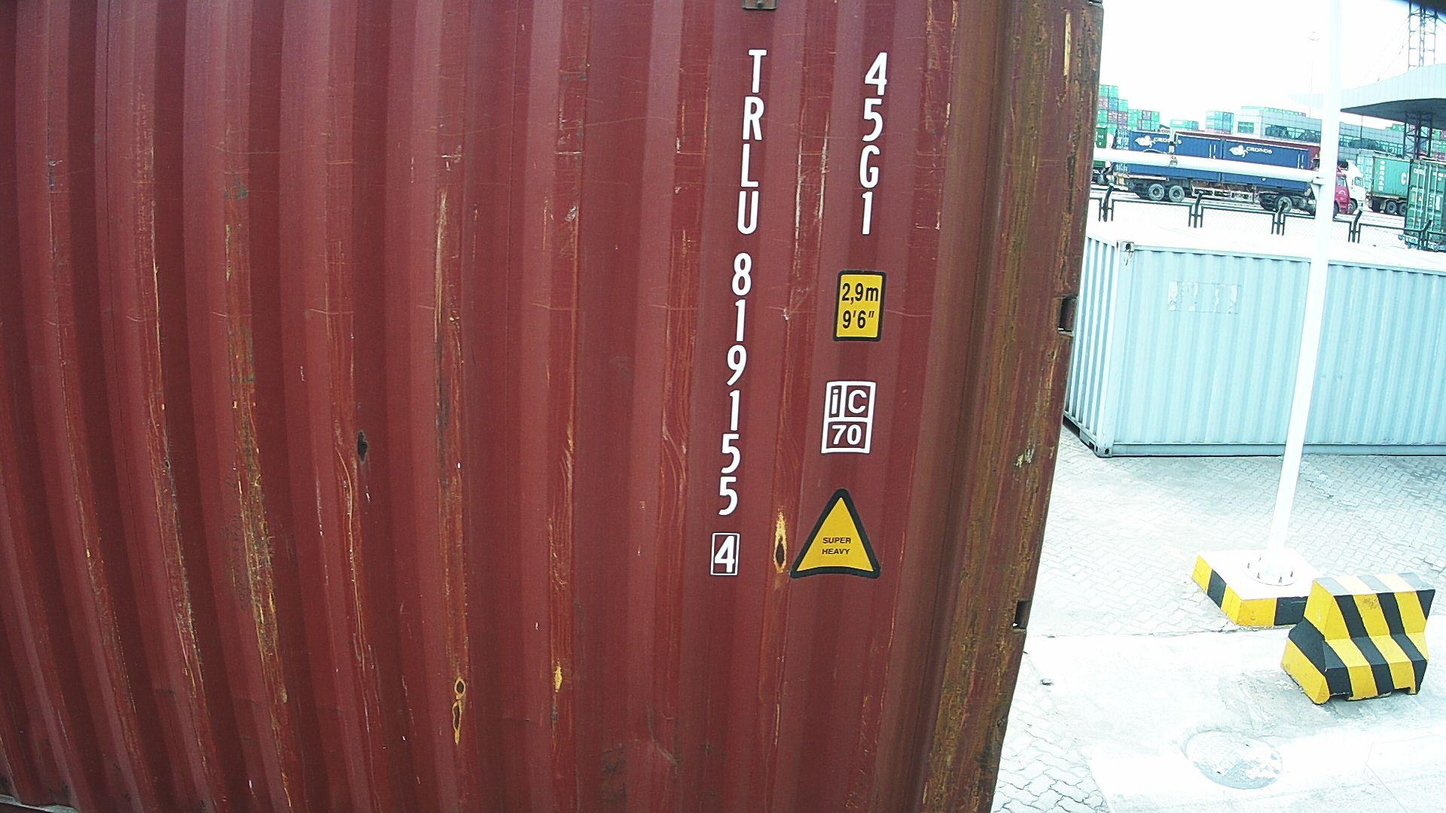container-numbers: (708, 42, 770, 582), (849, 47, 893, 240)
